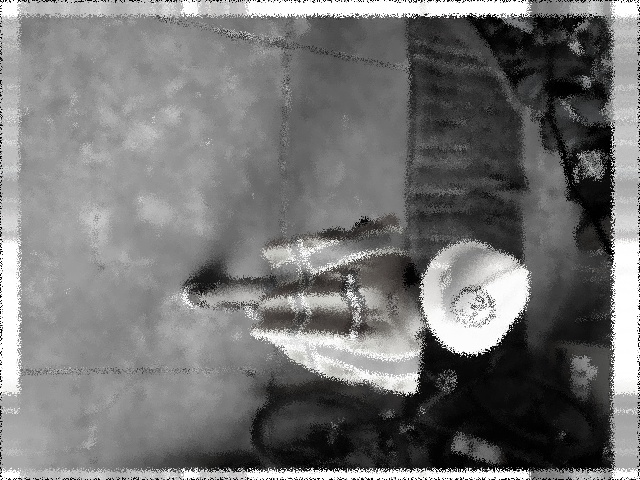three: (452, 287, 494, 325)
